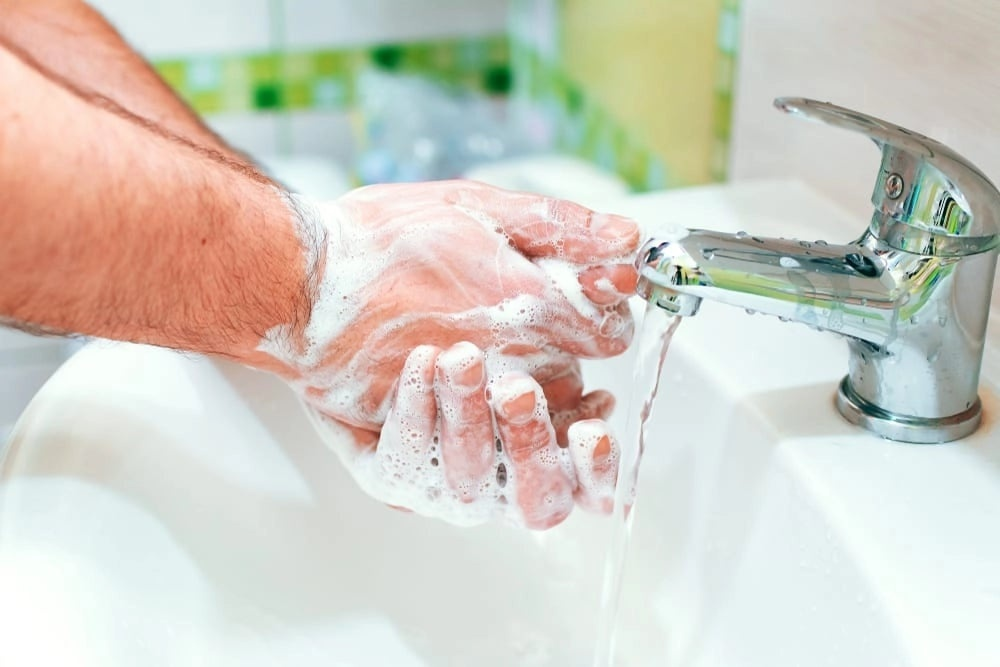washing hand: (305, 81, 965, 610)
